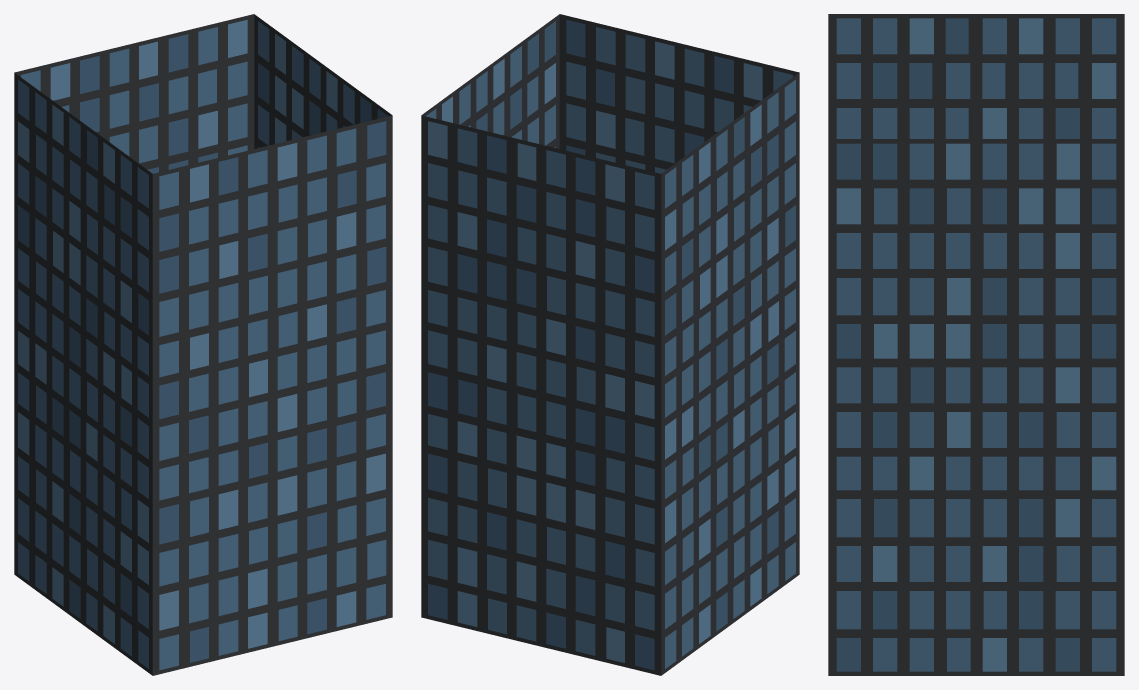
The model's file is bld_square3.glb.
3 renders of one model, left to right at view 1: azimuth 30°, elevation 25°; view 2: azimuth 150°, elevation 25°; view 3: azimuth 270°, elevation 25°, orthographic. The views are drawn at different scales.
Visible parts, largest first — view 1: SM_Bld_OfficeSquare_03; view 2: SM_Bld_OfficeSquare_03; view 3: SM_Bld_OfficeSquare_03.
Boxes of the visible parts, x1,y1,x2,y2 form: SM_Bld_OfficeSquare_03: (14, 14, 392, 675); SM_Bld_OfficeSquare_03: (421, 14, 799, 675); SM_Bld_OfficeSquare_03: (828, 14, 1124, 675).
Bounding box in the file's own units: 15 × 30 × 15.
Materials: 1 (1 with a texture image).
